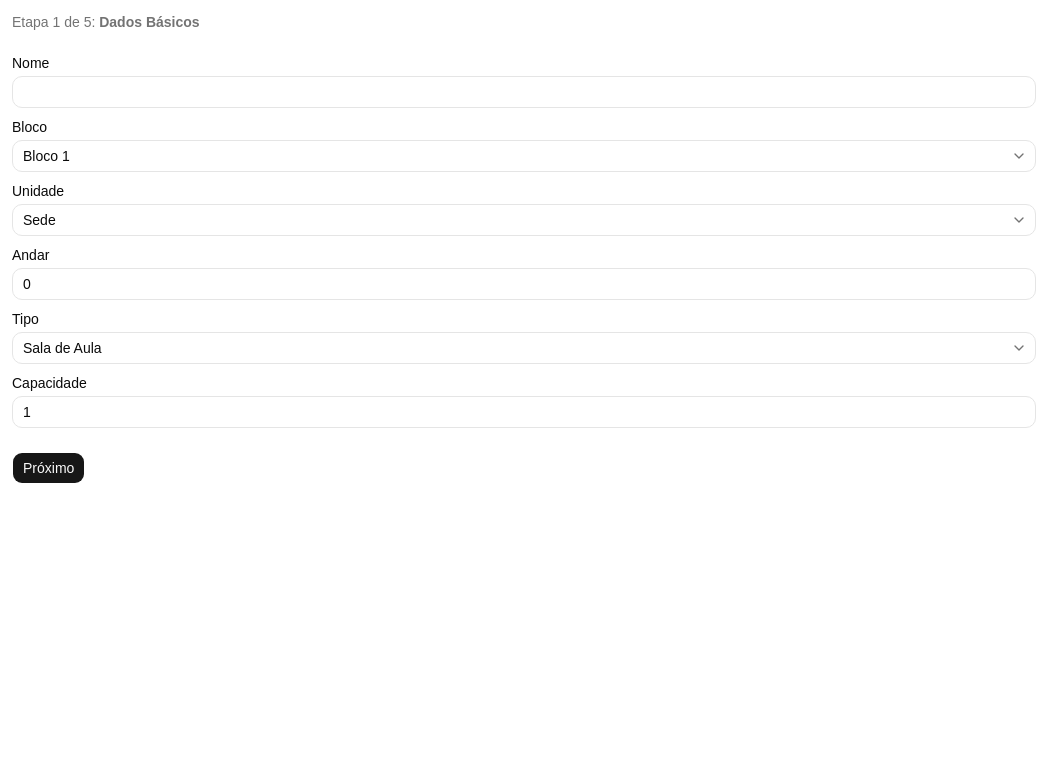
Test: FormAmbiente › adiciona e remove geometrias (useFieldArray)
The width and height of the screenshot is (1048, 780).
Type "Sala 01" into the field labelled "Nome". click: (524, 92)
box: [12,76,1036,108]
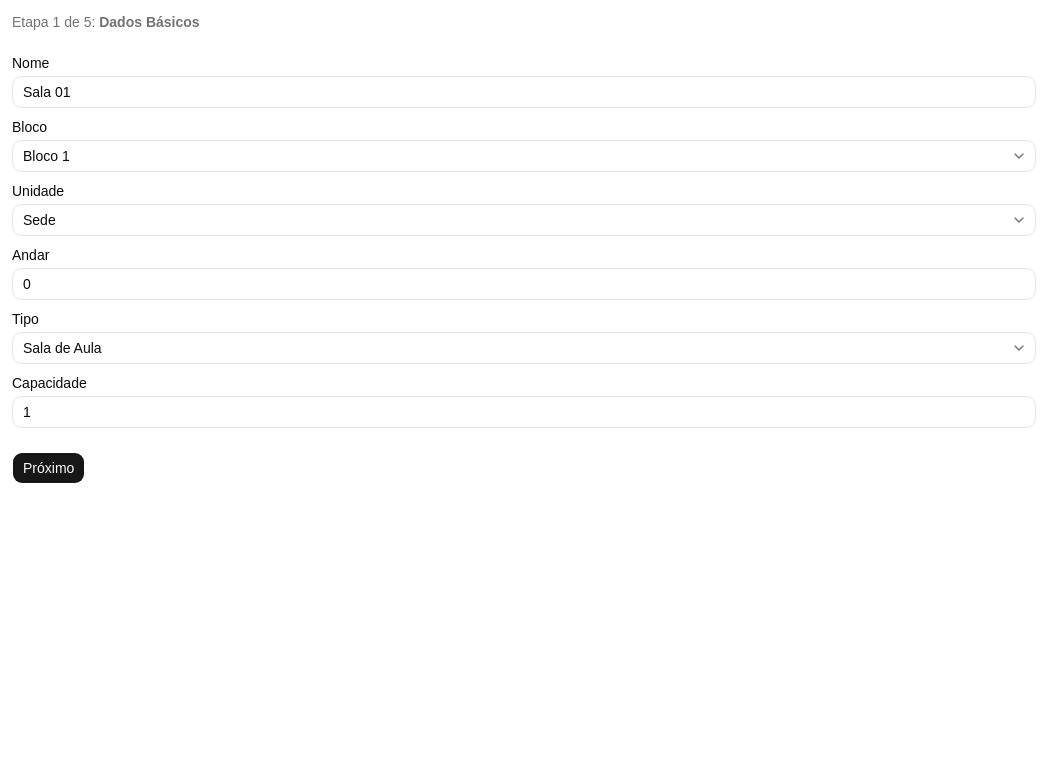
Click the button "Próximo". click: (49, 468)
box: [12,452,85,484]
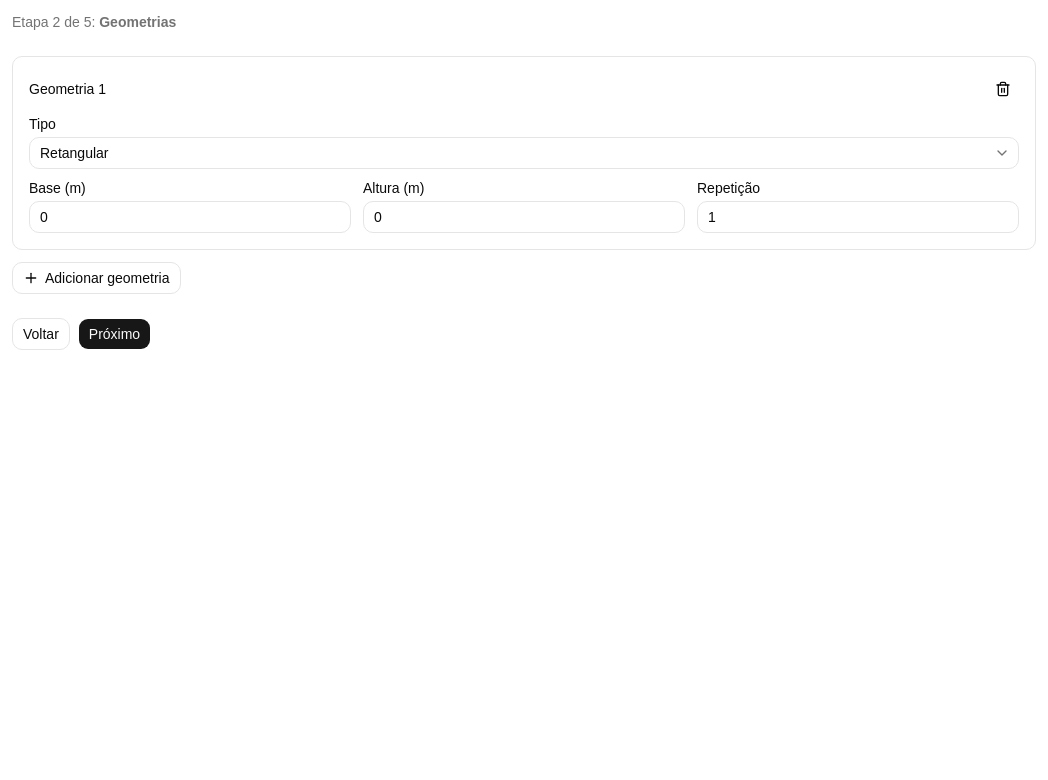
Click the button "Adicionar geometria". click: (96, 278)
box: [12,262,180,294]
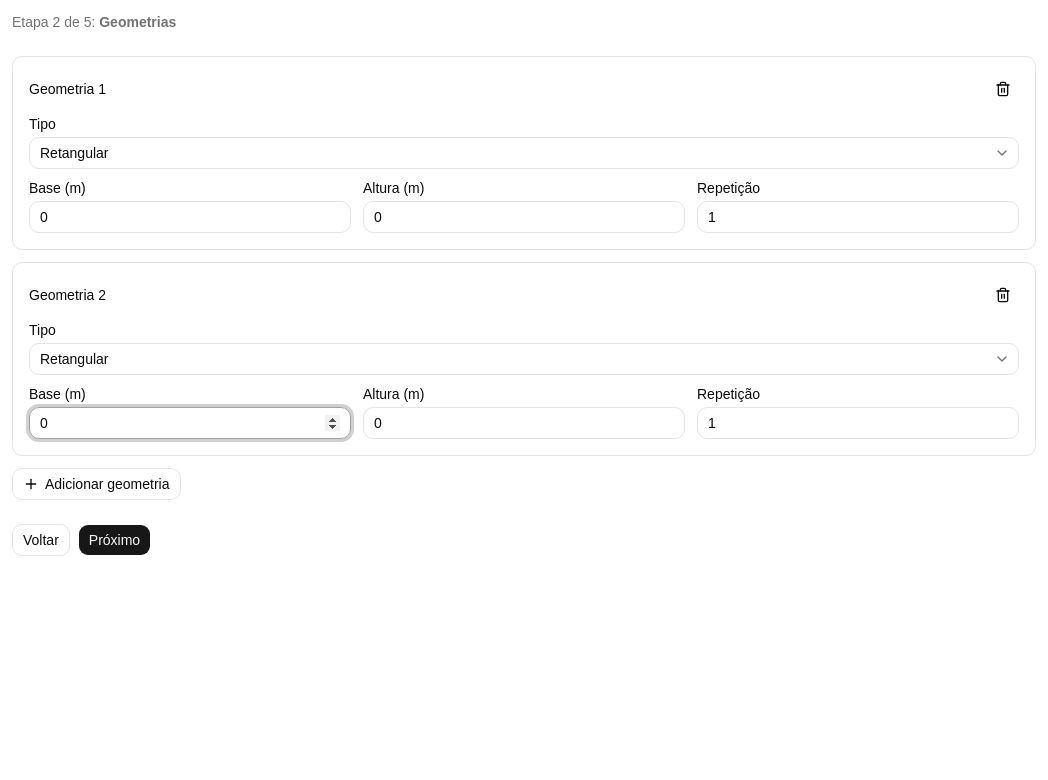
Expected: the text "Geometria 2" is shown, [29,285,106,305]
Click the button named "Remover geometria 2". click: (1003, 295)
box: [987,279,1019,311]
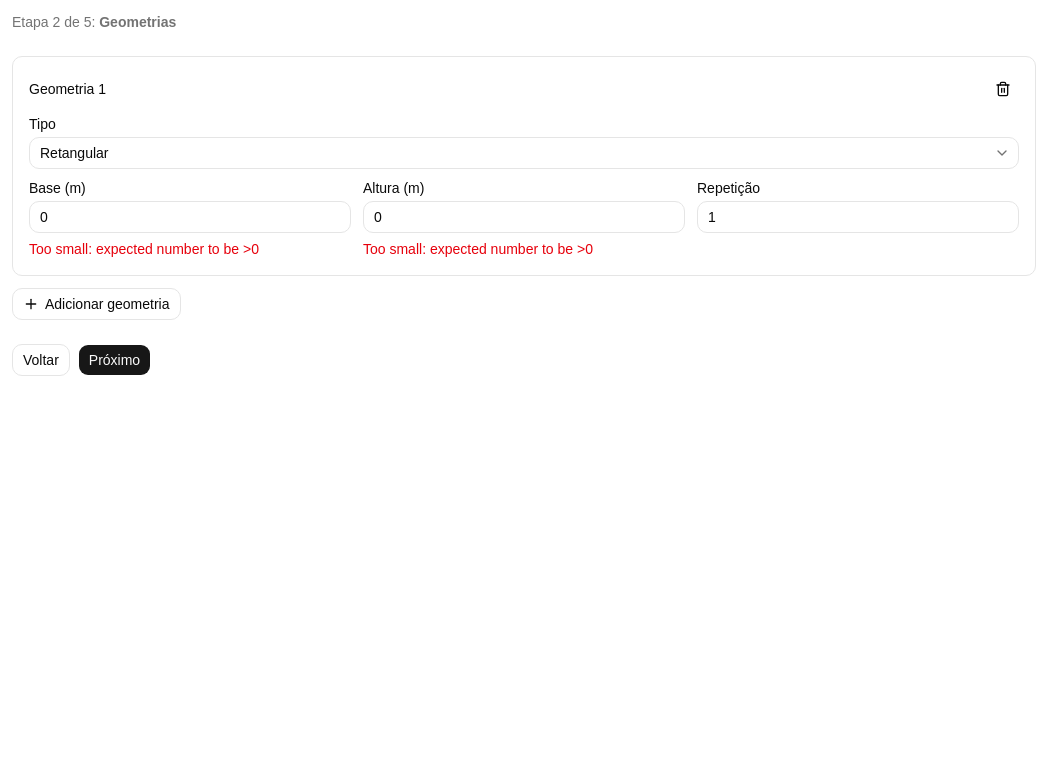
Expected: the text "Geometria 2" is gone
